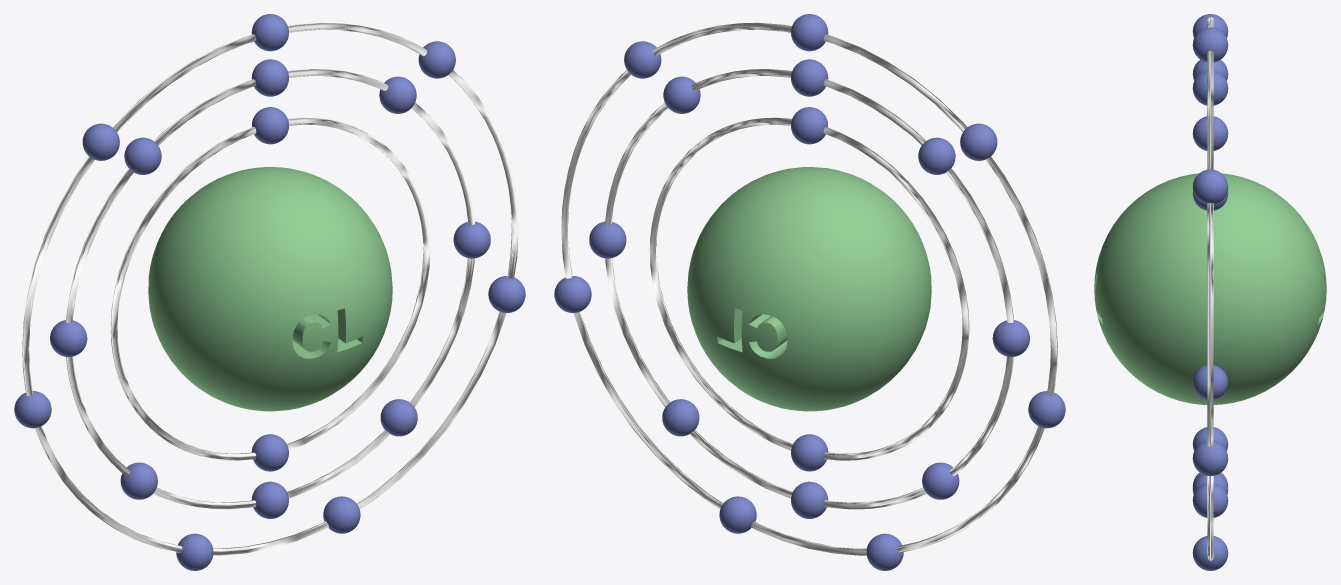
3 views of the same model, side by side, from view 1: azimuth 30°, elevation 25°; view 2: azimuth 150°, elevation 25°; view 3: azimuth 270°, elevation 25° (orthographic). The views are drawn at different scales.
Visible parts, largest first — view 1: Body1.005, Body1.003, Body1.002, Body1.001, Body11, Body6, Body7, Body2, Body4, Body3.001, Body5, Body1.004 (+9 smaller); view 2: Body1.005, Body1.003, Body1.002, Body1.001, Body11, Body7, Body6, Body2, Body4, Body3.001, Body5, Body1.004 (+9 smaller); view 3: Body1.005, Body1.003, Body9, Body2, Body1.004, Body4, Body2.001, Body3.001, Body11, Body5, Body7, Body2.002 (+2 smaller).
Boxes of the visible parts, x1=… form: Body1.005: x1=148, y1=167, x2=392, y2=411; Body1.003: x1=22, y1=22, x2=518, y2=555; Body1.002: x1=66, y1=69, x2=474, y2=509; Body1.001: x1=110, y1=117, x2=430, y2=460; Body11: x1=380, y1=399, x2=417, y2=436; Body6: x1=124, y1=137, x2=161, y2=174; Body7: x1=82, y1=123, x2=119, y2=160; Body2: x1=488, y1=276, x2=525, y2=312; Body4: x1=323, y1=496, x2=360, y2=533; Body3.001: x1=251, y1=59, x2=288, y2=96; Body5: x1=453, y1=221, x2=490, y2=258; Body1.004: x1=251, y1=14, x2=288, y2=51; Body1.005: x1=687, y1=167, x2=931, y2=411; Body1.003: x1=561, y1=22, x2=1057, y2=555; Body1.002: x1=605, y1=69, x2=1013, y2=509; Body1.001: x1=649, y1=117, x2=969, y2=460; Body11: x1=662, y1=399, x2=699, y2=436; Body7: x1=960, y1=123, x2=997, y2=160; Body6: x1=918, y1=137, x2=955, y2=174; Body2: x1=554, y1=276, x2=591, y2=312; Body4: x1=719, y1=496, x2=756, y2=533; Body3.001: x1=791, y1=59, x2=828, y2=96; Body5: x1=589, y1=221, x2=626, y2=258; Body1.004: x1=791, y1=14, x2=828, y2=51; Body1.005: x1=1094, y1=173, x2=1326, y2=404; Body1.003: x1=1207, y1=17, x2=1213, y2=560; Body9: x1=1192, y1=169, x2=1228, y2=204; Body2: x1=1192, y1=441, x2=1228, y2=476; Body1.004: x1=1192, y1=27, x2=1228, y2=62; Body4: x1=1192, y1=536, x2=1228, y2=570; Body2.001: x1=1192, y1=116, x2=1228, y2=150; Body3.001: x1=1192, y1=71, x2=1228, y2=105; Body11: x1=1192, y1=483, x2=1228, y2=517; Body5: x1=1192, y1=365, x2=1228, y2=399; Body7: x1=1192, y1=14, x2=1228, y2=37; Body2.002: x1=1192, y1=427, x2=1228, y2=450.
Size of the model in its own units: 0.2509 by 0.2534 by 0.105.
